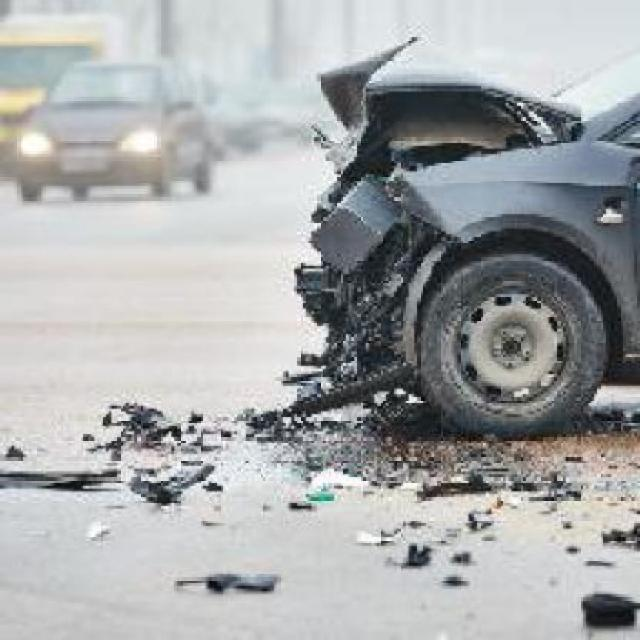damaged-hood: (308, 47, 564, 153)
